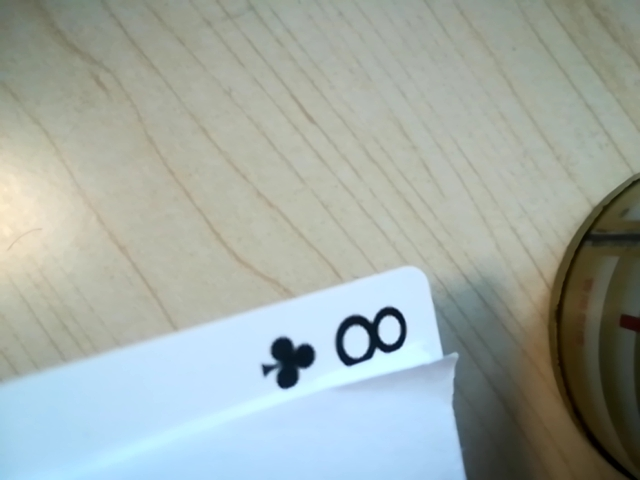mh 8: (253, 294, 433, 397)
